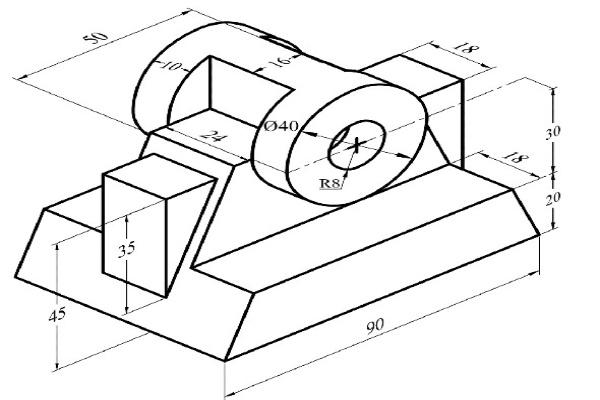dimensions: (450, 37, 489, 58), (499, 145, 533, 168), (263, 117, 300, 137), (539, 123, 568, 145), (113, 241, 143, 262), (264, 53, 294, 73), (539, 188, 566, 210), (79, 28, 110, 47), (44, 304, 72, 325), (200, 125, 229, 144), (358, 316, 387, 335), (160, 57, 182, 74)
